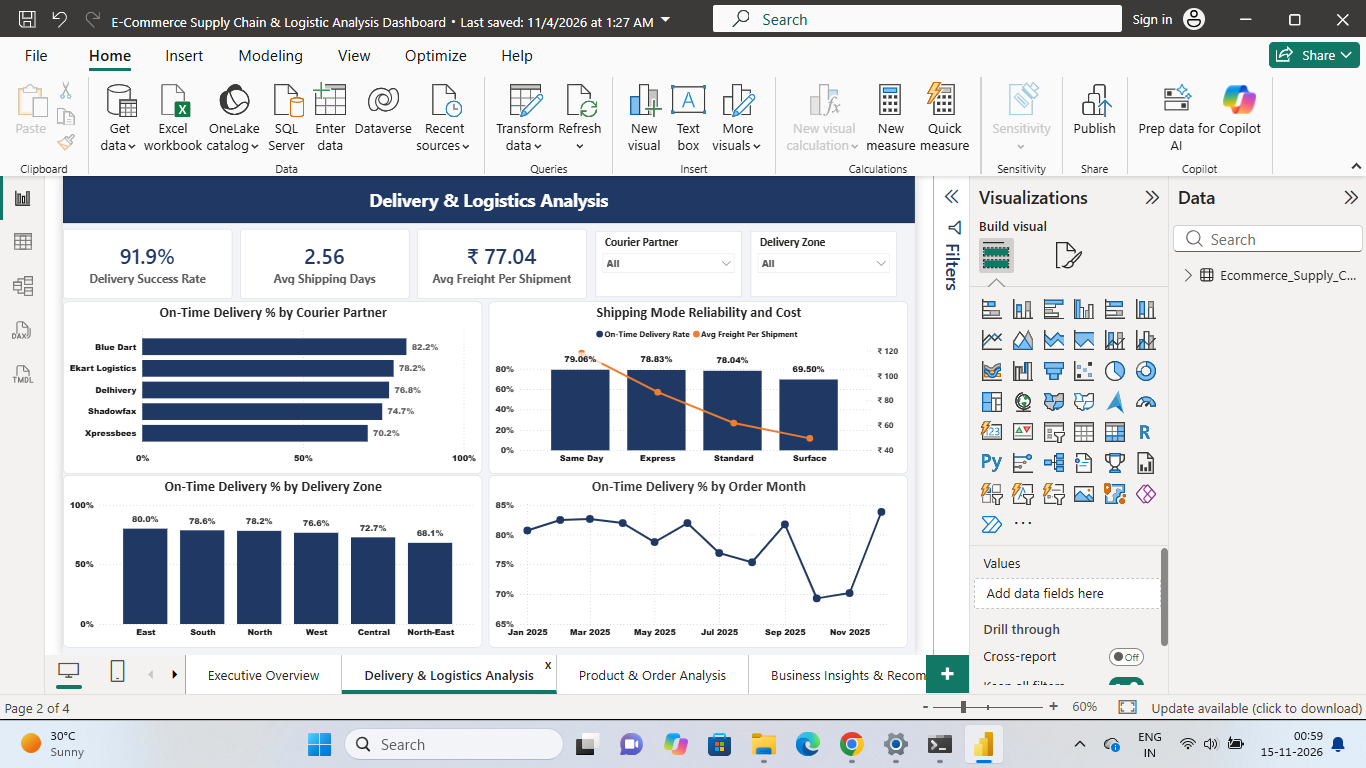

The dashboard page shown, as its layout file describes it:
{"tool":"powerbi","page":{"name":"Delivery & Logistics Analysis","canvas":[1280,720],"ordinal":1},"visuals":[{"type":"cardVisual","fields":{"Data":["Ecommerce_Supply_Chain_Clean.Delivery Success Rate"]},"box":[0,79.3,254.6,105.8],"z":0},{"type":"cardVisual","fields":{"Data":["Ecommerce_Supply_Chain_Clean.Avg_Shipping_Days"]},"box":[266.1,79.3,254.6,105.8],"z":1000},{"type":"cardVisual","fields":{"Data":["Ecommerce_Supply_Chain_Clean.Avg_Shipping_Cost"]},"box":[533,79.3,254.6,105.8],"z":2000},{"type":"barChart","title":"On-Time Delivery % by Courier Partner","fields":{"Category":["Ecommerce_Supply_Chain_Clean.Courier_Partner"],"Y":["Ecommerce_Supply_Chain_Clean.On-Time Delivery Rate"]},"box":[0,188.4,630,259.5],"z":3000},{"type":"lineClusteredColumnComboChart","title":"Shipping Mode Reliability and Cost","fields":{"Category":["Ecommerce_Supply_Chain_Clean.Shipping_Mode"],"Y":["Ecommerce_Supply_Chain_Clean.On-Time Delivery Rate"],"Y2":["Ecommerce_Supply_Chain_Clean.Avg_Freight_per_Shipment"]},"box":[639.7,188.4,630,259.5],"z":4000},{"type":"columnChart","title":"On-Time Delivery % by Delivery Zone","fields":{"Category":["Ecommerce_Supply_Chain_Clean.Delivery_Zone"],"Y":["Ecommerce_Supply_Chain_Clean.On-Time Delivery Rate"]},"box":[0,449.6,630,259.5],"z":5000},{"type":"lineChart","title":"On-Time Delivery % by Order Month","fields":{"Category":["Ecommerce_Supply_Chain_Clean.Order_Month"],"Y":["Ecommerce_Supply_Chain_Clean.On-Time Delivery Rate"]},"box":[639.7,449.6,630,259.5],"z":6000},{"type":"slicer","fields":{"Values":["Ecommerce_Supply_Chain_Clean.Courier_Partner"]},"box":[799.5,82.6,220,99.2],"z":7000},{"type":"slicer","fields":{"Values":["Ecommerce_Supply_Chain_Clean.Delivery_Zone"]},"box":[1033.1,82.6,219.8,99.2],"z":8000},{"type":"shape","box":[0,0,1279.8,70.7],"z":9000}]}

Visuals, with their boxes on the page's 1280x720 design canvas (x1, y1, x2, y2). These are canvas units, not pixel positions in the 1366x768 screenshot, which may show the page scaled, cropped or inside an application window:
cardVisual - Ecommerce_Supply_Chain_Clean.Delivery Success Rate: {"x1": 0, "y1": 79, "x2": 255, "y2": 185}
cardVisual - Ecommerce_Supply_Chain_Clean.Avg_Shipping_Days: {"x1": 266, "y1": 79, "x2": 521, "y2": 185}
cardVisual - Ecommerce_Supply_Chain_Clean.Avg_Shipping_Cost: {"x1": 533, "y1": 79, "x2": 788, "y2": 185}
"On-Time Delivery % by Courier Partner" barChart: {"x1": 0, "y1": 188, "x2": 630, "y2": 448}
"Shipping Mode Reliability and Cost" lineClusteredColumnComboChart: {"x1": 640, "y1": 188, "x2": 1270, "y2": 448}
"On-Time Delivery % by Delivery Zone" columnChart: {"x1": 0, "y1": 450, "x2": 630, "y2": 709}
"On-Time Delivery % by Order Month" lineChart: {"x1": 640, "y1": 450, "x2": 1270, "y2": 709}
slicer - Ecommerce_Supply_Chain_Clean.Courier_Partner: {"x1": 800, "y1": 83, "x2": 1020, "y2": 182}
slicer - Ecommerce_Supply_Chain_Clean.Delivery_Zone: {"x1": 1033, "y1": 83, "x2": 1253, "y2": 182}
shape: {"x1": 0, "y1": 0, "x2": 1280, "y2": 71}
